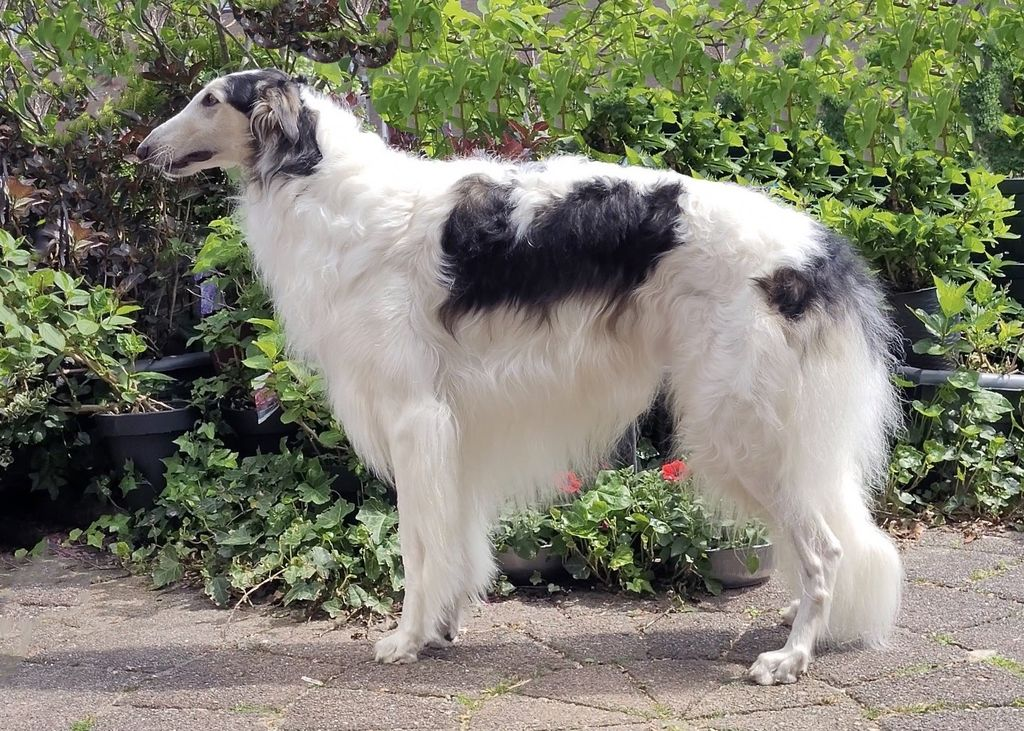borzoi: (132, 65, 906, 687)
